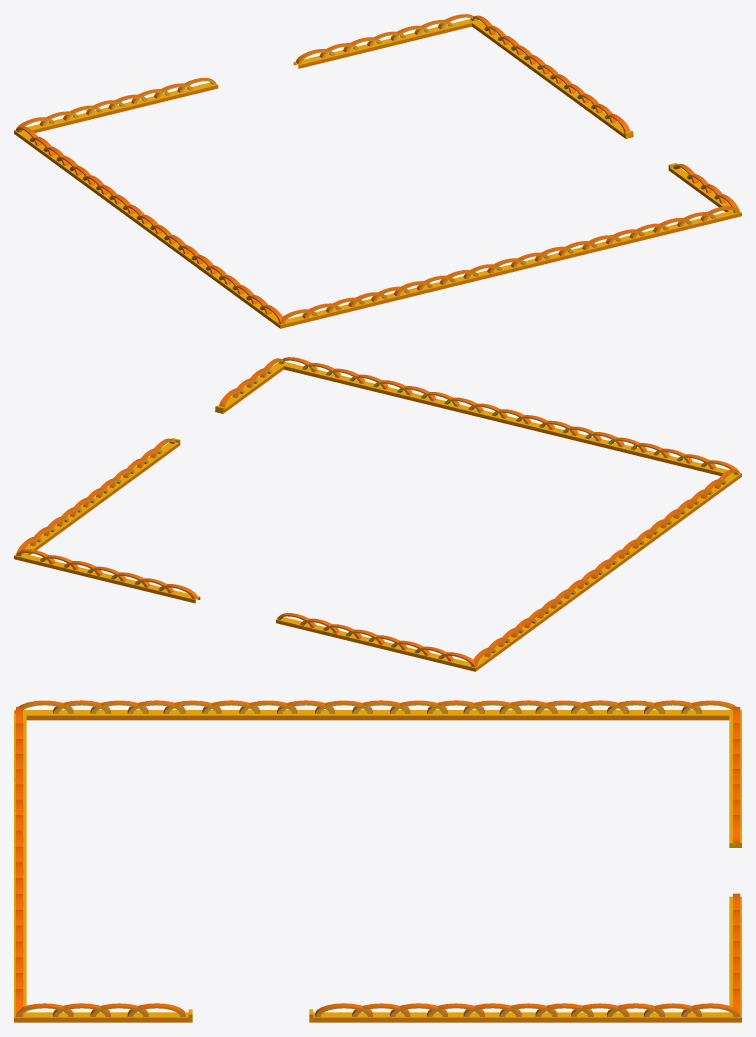
The model's file is Garden_lv1_v2.FBX.
3 renders of one model, top to bottom at view 1: azimuth 30°, elevation 25°; view 2: azimuth 150°, elevation 25°; view 3: azimuth 270°, elevation 25°, orthographic. The views are drawn at different scales.
Parts seen in each view (by area): view 1: LV1; view 2: LV1; view 3: LV1.
Part boxes in pixels (x1,y1,x2,y2): LV1: (14, 14, 741, 328); LV1: (14, 357, 741, 671); LV1: (14, 700, 741, 1022).
Bounding box in the file's own units: 34.21 × 0.7934 × 34.21.
